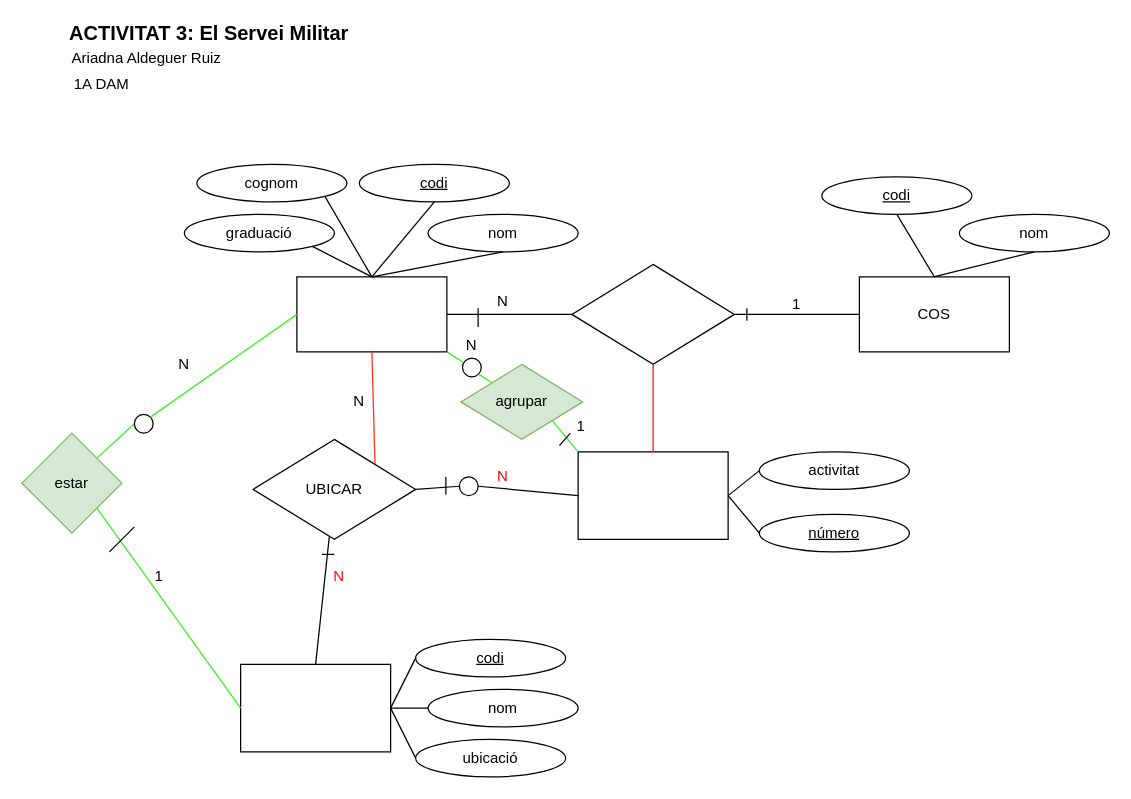
Image size: 1131x799. Some labels were removed from this diagram. The shapes that lost their labels are listed below. From the top down, each one's centre as x and y in pixels, then its label:
[371,314]: SOLDAT
[652,313]: PERTÀNYER
[652,495]: COMPANYIA
[315,707]: QUARTELL
